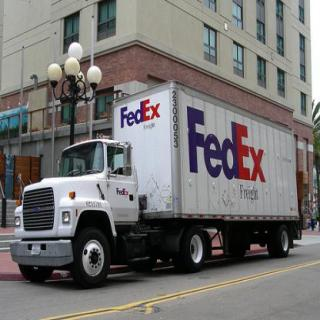Normal_vehicle: (11, 77, 302, 286)
